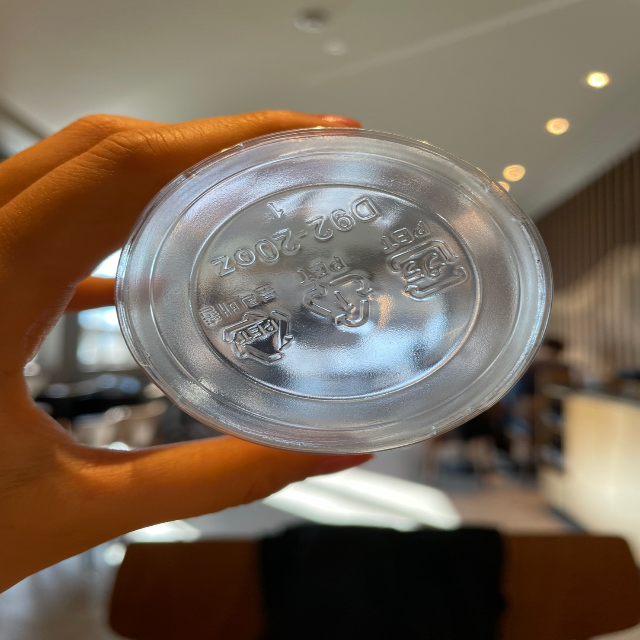pet: (194, 281, 299, 365), (379, 217, 475, 304), (293, 257, 383, 332)
